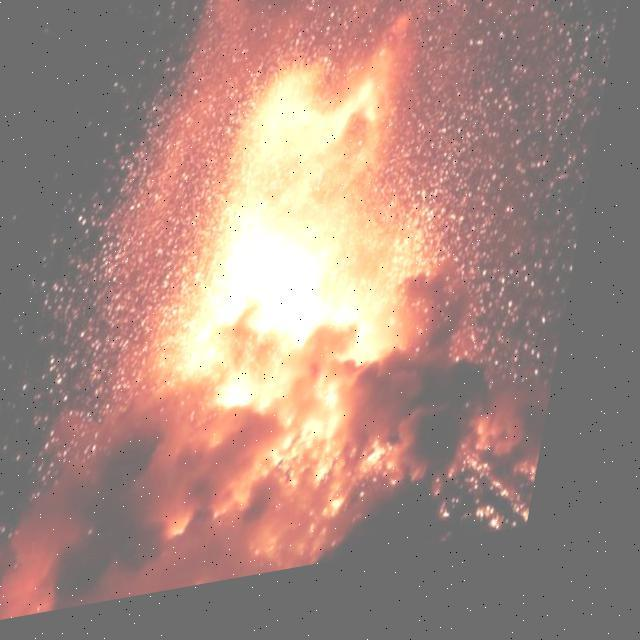Fire: (66, 0, 536, 614)
